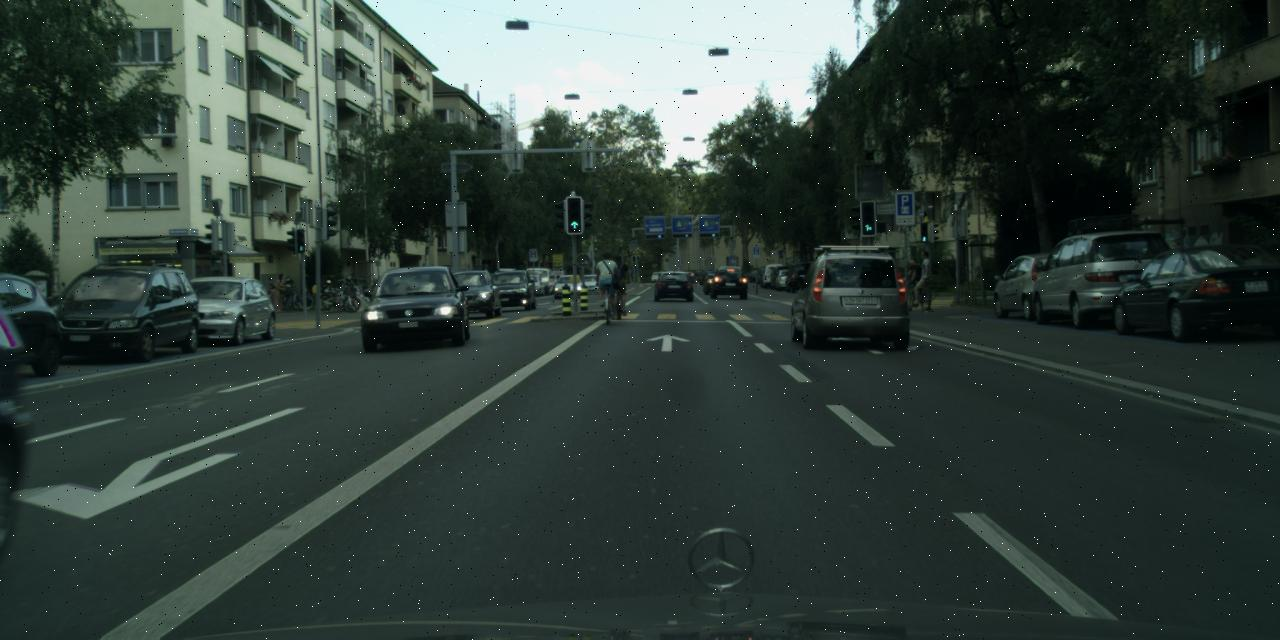ped: (595, 252, 618, 310), (607, 254, 629, 310), (913, 250, 935, 306), (270, 273, 286, 311), (908, 260, 922, 294)
